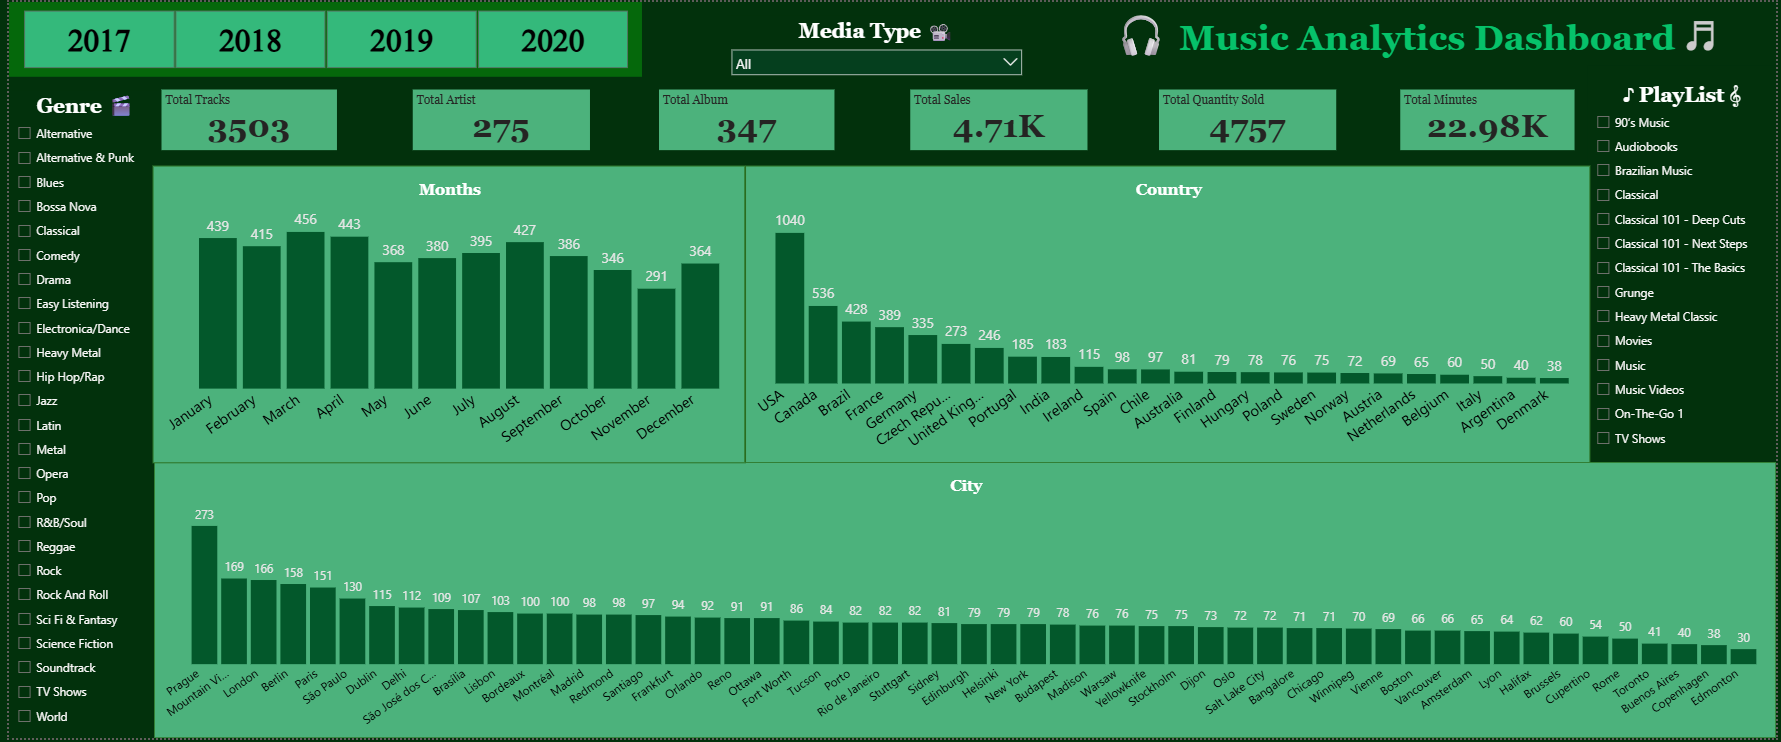

What the dashboard file says about the page in this screenshot:
{"tool":"powerbi","page":{"name":"Dashboard","canvas":[2402,1000],"ordinal":0},"visuals":[{"type":"slicer","title":"♪ PlayList 𝄞","fields":{"Values":["playlist.name"]},"box":[2145.1,86.6,256.5,540.1],"z":0},{"type":"clusteredColumnChart","title":"Country ","fields":{"Category":["customers.country"],"Y":["Sum(invoice.total)"]},"box":[1000.3,222.5,1148.1,404.2],"z":1000},{"type":"slicer","title":"Genre 🎬","fields":{"Values":["genre.name"]},"box":[0,102.3,208.5,897.1],"z":2000},{"type":"slicer","fields":{"Values":["invoice.invoice_date.Variation.Date Hierarchy.Year"]},"box":[0,0,859.8,101.9],"z":3000},{"type":"clusteredColumnChart","title":"City","fields":{"Category":["invoice.billing_city"],"Y":["Sum(invoice.total)"]},"box":[196.2,625.1,2204.3,375.1],"z":5000},{"type":"card","title":"Total Tracks","fields":{"Values":["Count(track.track_id)"]},"box":[207.7,119.3,238.5,82.7],"z":6000},{"type":"card","title":"Total Artist","fields":{"Values":["Count(artist.artist_id)"]},"box":[548.2,119.3,240.4,82.7],"z":7000},{"type":"card","title":"Total Album","fields":{"Values":["Count(album.album_id)"]},"box":[882.9,119.3,238.5,82.7],"z":8000},{"type":"card","title":"Total Quantity Sold","fields":{"Values":["CountNonNull(invoice_line.quantity)"]},"box":[1561.8,119.3,240.4,82.7],"z":9000},{"type":"card","title":"Total Minutes","fields":{"Values":["Sum(track.minutes)"]},"box":[1890.8,119.3,236.6,82.7],"z":10000},{"type":"textbox","box":[1424.9,0,976.6,86.6],"z":11000},{"type":"card","title":"Total Sales","fields":{"Values":["album.Total sales"]},"box":[1225.2,119.3,240.4,82.7],"z":12000},{"type":"clusteredColumnChart","title":"Months","fields":{"Y":["Sum(invoice.total)"],"Category":["invoice.invoice_date.Variation.Date Hierarchy.Month"]},"box":[195.3,222.5,805,404.2],"z":13000},{"type":"slicer","title":"Media Type 📽️","fields":{"Values":["media_type.name"]},"box":[971.5,0,414.4,101.9],"z":14000}]}

Visuals, with their boxes in screenshot pixels (x1, y1, x2, y2), scaled from the page's 2402x1000 canvas onto the 1781x742 screenshot:
"♪ PlayList 𝄞" slicer: (1591, 64, 1780, 465)
"Country " clusteredColumnChart: (742, 165, 1593, 465)
"Genre 🎬" slicer: (0, 76, 155, 741)
slicer - invoice.invoice_date.Variation.Date Hierarchy.Year: (0, 0, 638, 76)
"City" clusteredColumnChart: (145, 464, 1780, 741)
"Total Tracks" card: (154, 89, 331, 150)
"Total Artist" card: (406, 89, 585, 150)
"Total Album" card: (655, 89, 831, 150)
"Total Quantity Sold" card: (1158, 89, 1336, 150)
"Total Minutes" card: (1402, 89, 1577, 150)
textbox: (1057, 0, 1780, 64)
"Total Sales" card: (908, 89, 1087, 150)
"Months" clusteredColumnChart: (145, 165, 742, 465)
"Media Type 📽️" slicer: (720, 0, 1028, 76)
